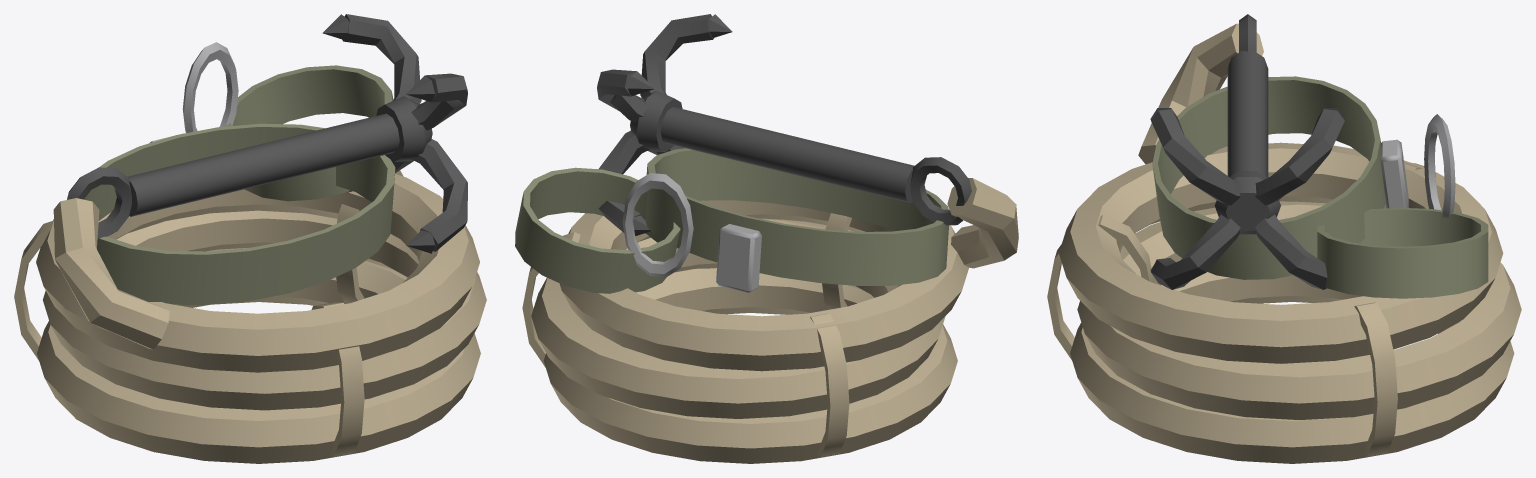
The model's file is climbing_kit.glb.
3 views of the same model, side by side, from view 1: azimuth 30°, elevation 25°; view 2: azimuth 150°, elevation 25°; view 3: azimuth 270°, elevation 25° (orthographic). The views are drawn at different scales.
Parts seen in each view (by area): view 1: body; view 2: body; view 3: body.
Boxes of the visible parts, x1,y1,x2,y2 form: body: [14, 14, 486, 463]; body: [515, 14, 1018, 463]; body: [1047, 14, 1521, 463].
Bounding box in the file's own units: 0.3066 × 0.2128 × 0.2828.
